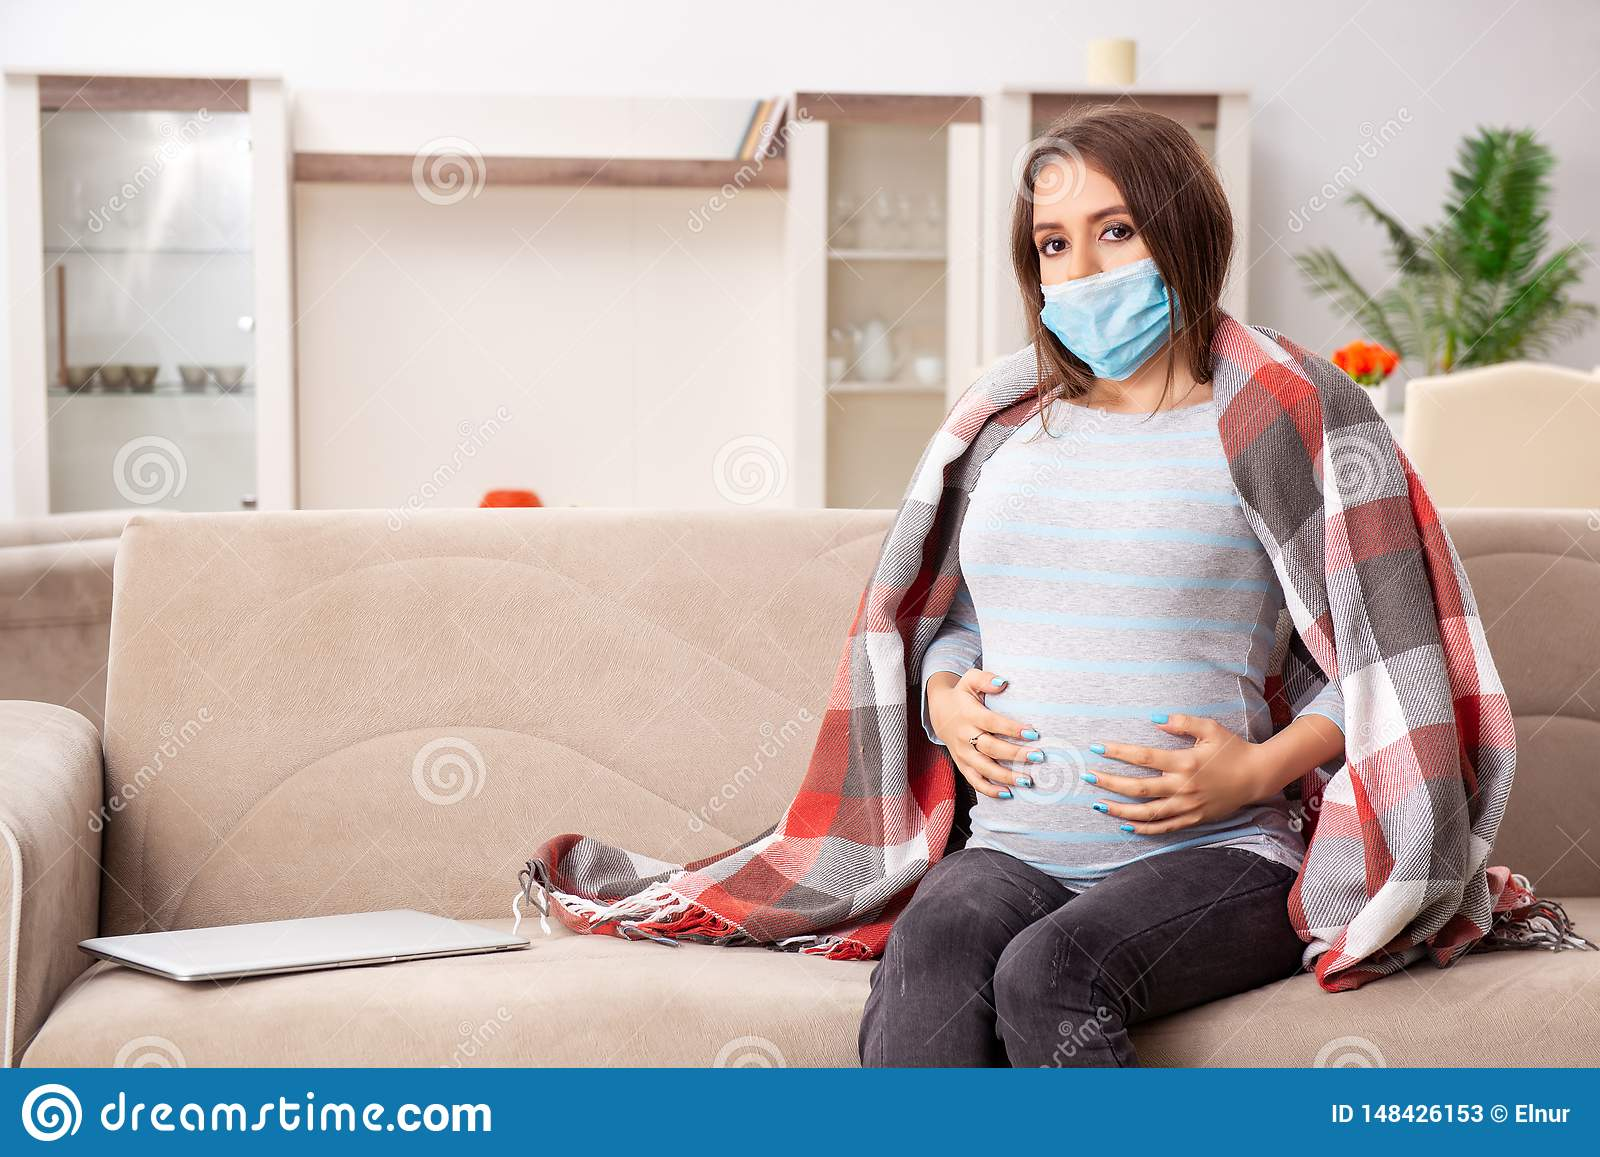mask: (1036, 262, 1175, 377)
